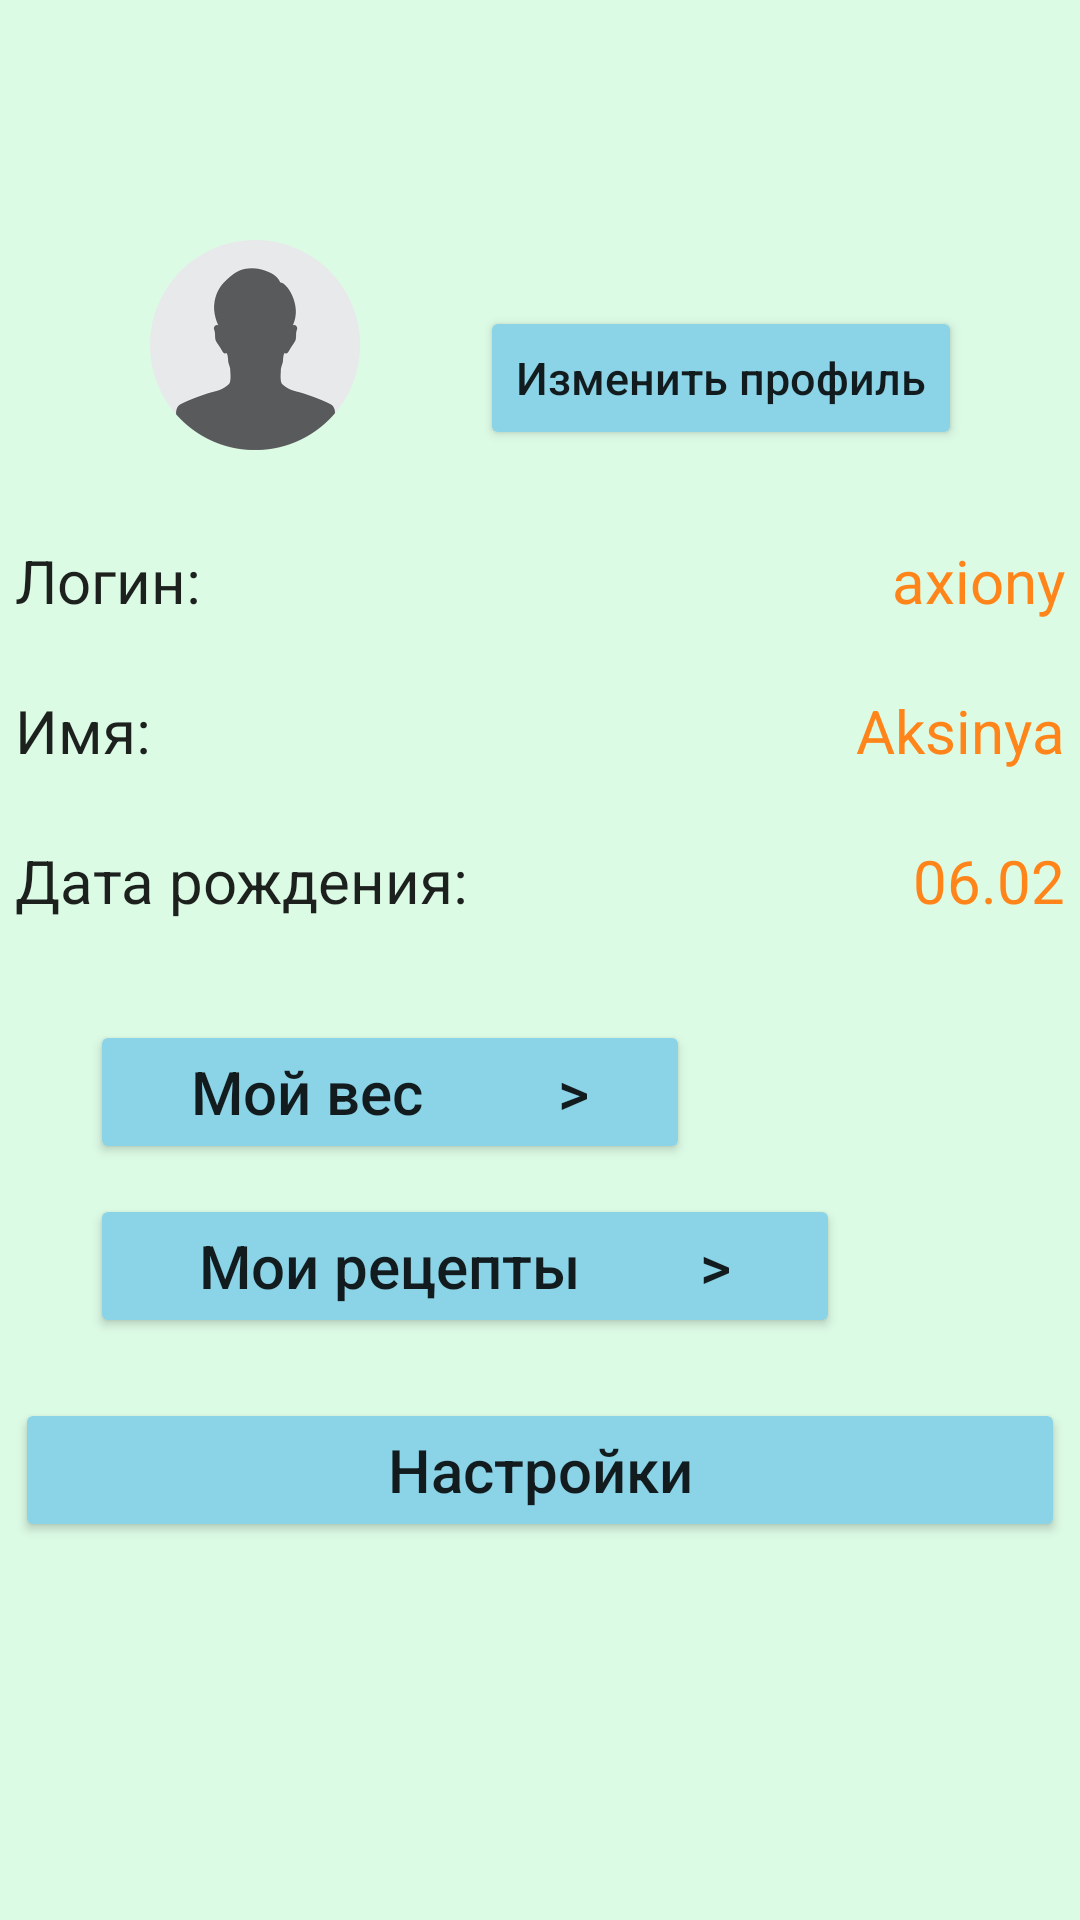

Locate icon controls on the screen. Image size 1080w x 1920h, boxes as (x1, y1, x2, y2).
profile: (176, 268, 335, 450)
